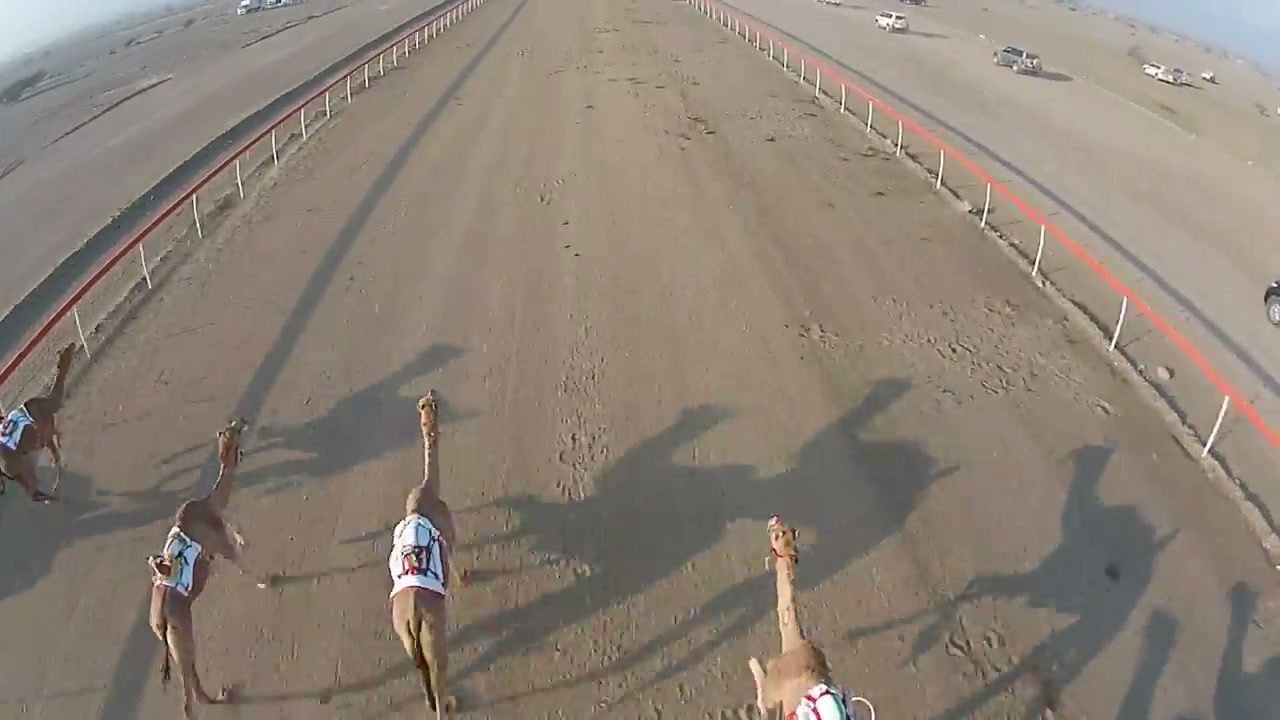animal_foot_print: (566, 387, 648, 706)
